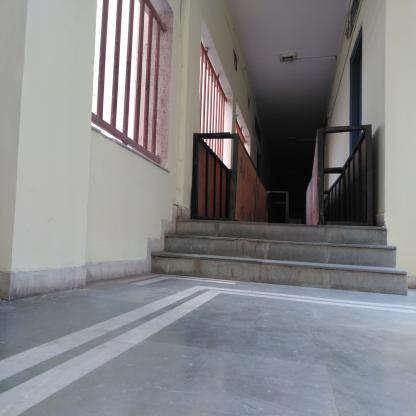stairs: (179, 219, 387, 296)
